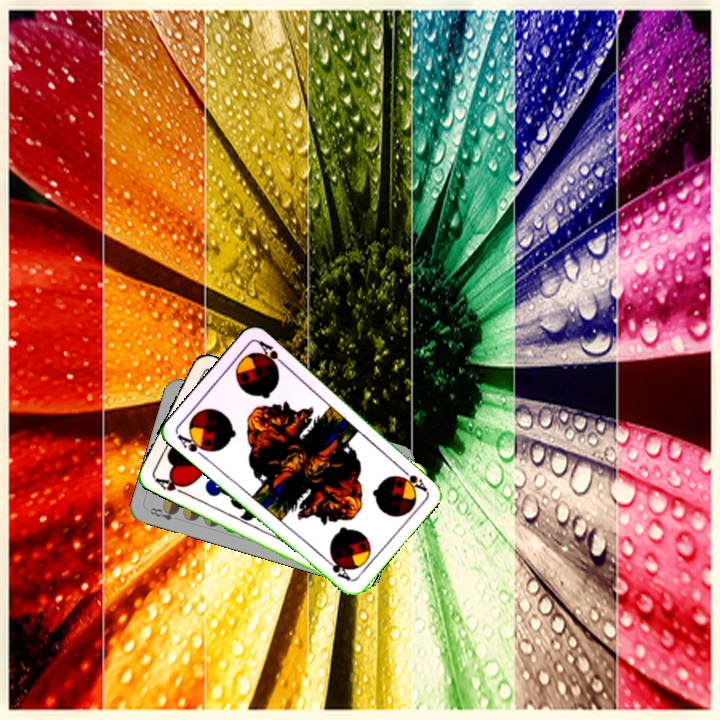E8: (145, 503, 180, 523)
HA: (150, 473, 190, 497)
SA: (173, 430, 212, 461), (395, 463, 429, 494)
